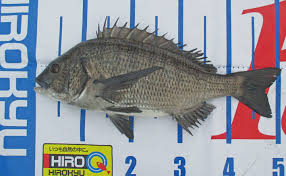kurodai: (32, 17, 277, 131)
